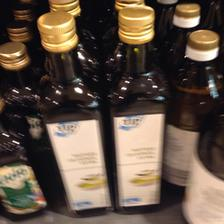Oel: (31, 10, 113, 214), (104, 4, 164, 212)
